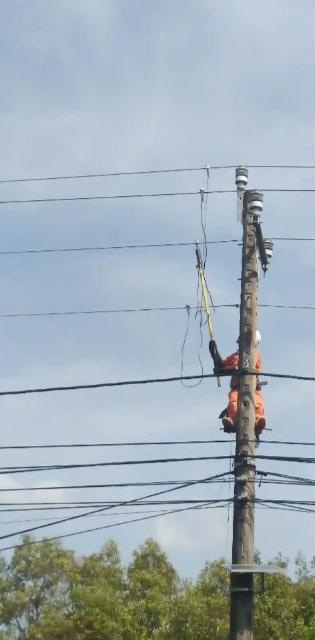gloves: (208, 339, 224, 370)
helmet: (237, 323, 266, 346)
shoes: (255, 417, 269, 436), (220, 417, 238, 430)
